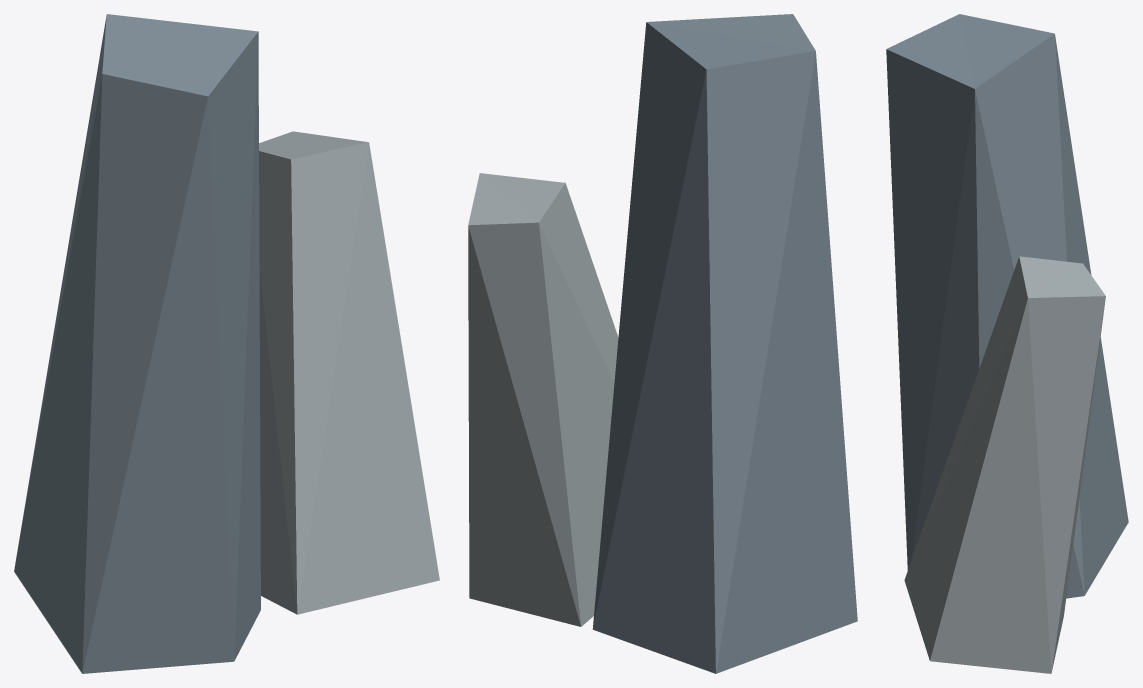
Rendered from Rock_03_LOD1.fbx.
The picture shows the model from 3 angles, left to right: view 1: azimuth 30°, elevation 25°; view 2: azimuth 150°, elevation 25°; view 3: azimuth 270°, elevation 25°; orthographic projection. The views are drawn at different scales.
Parts seen in each view (by area): view 1: Rock_03_LOD1; view 2: Rock_03_LOD1; view 3: Rock_03_LOD1.
Boxes of the visible parts, x1=… form: Rock_03_LOD1: x1=14, y1=14, x2=439, y2=673; Rock_03_LOD1: x1=468, y1=14, x2=857, y2=673; Rock_03_LOD1: x1=886, y1=14, x2=1128, y2=673.
Size of the model in its own units: 152 by 249 by 102.
